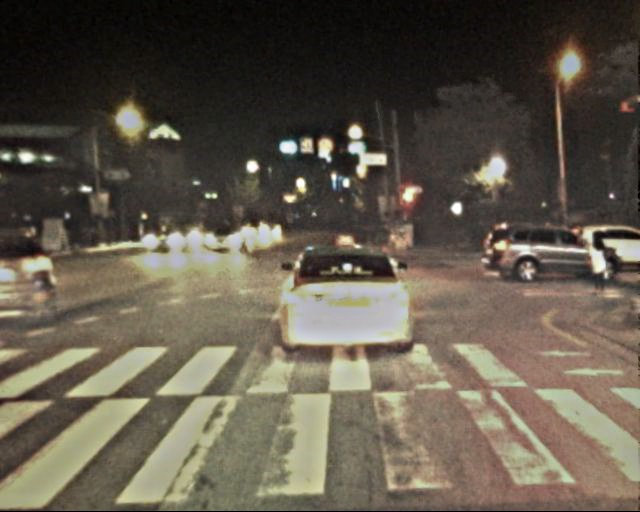person: (581, 231, 611, 304)
